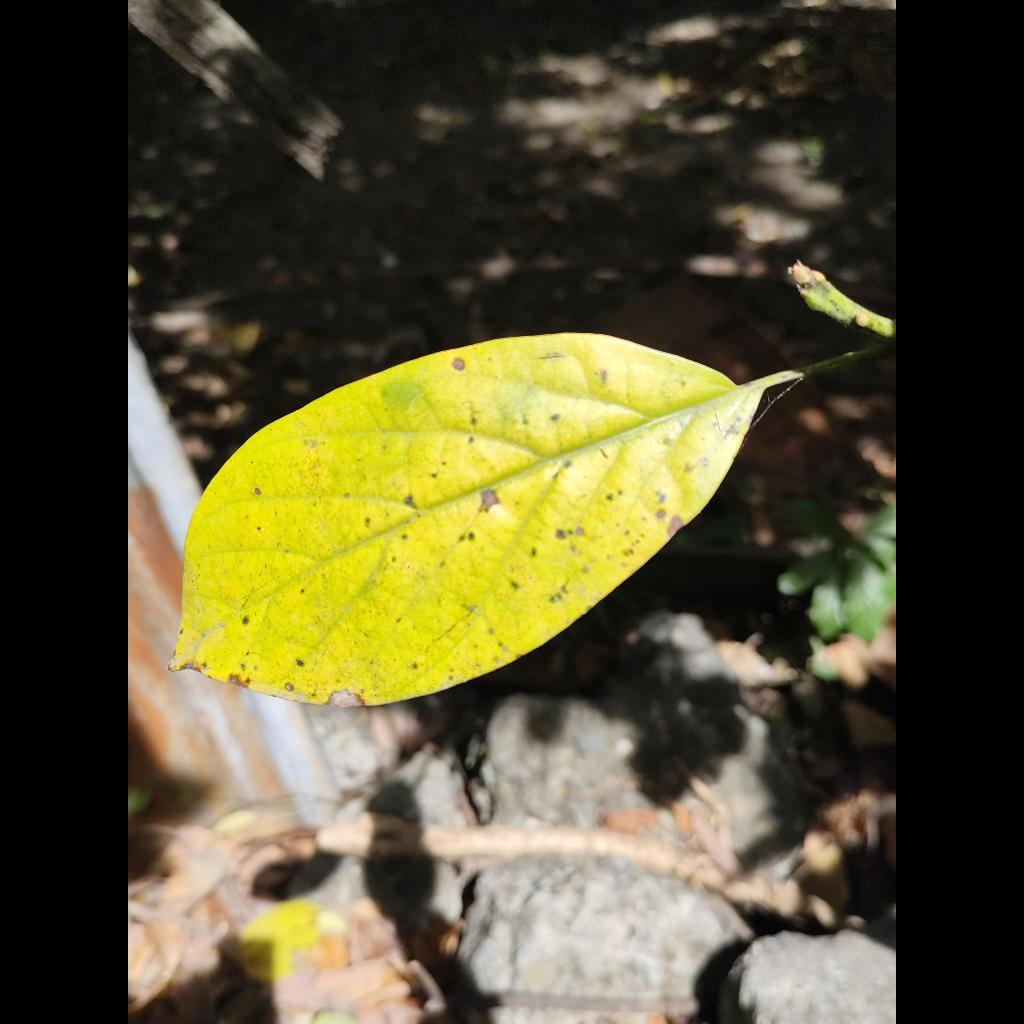deficiencia_nutricional: (171, 334, 793, 707)
